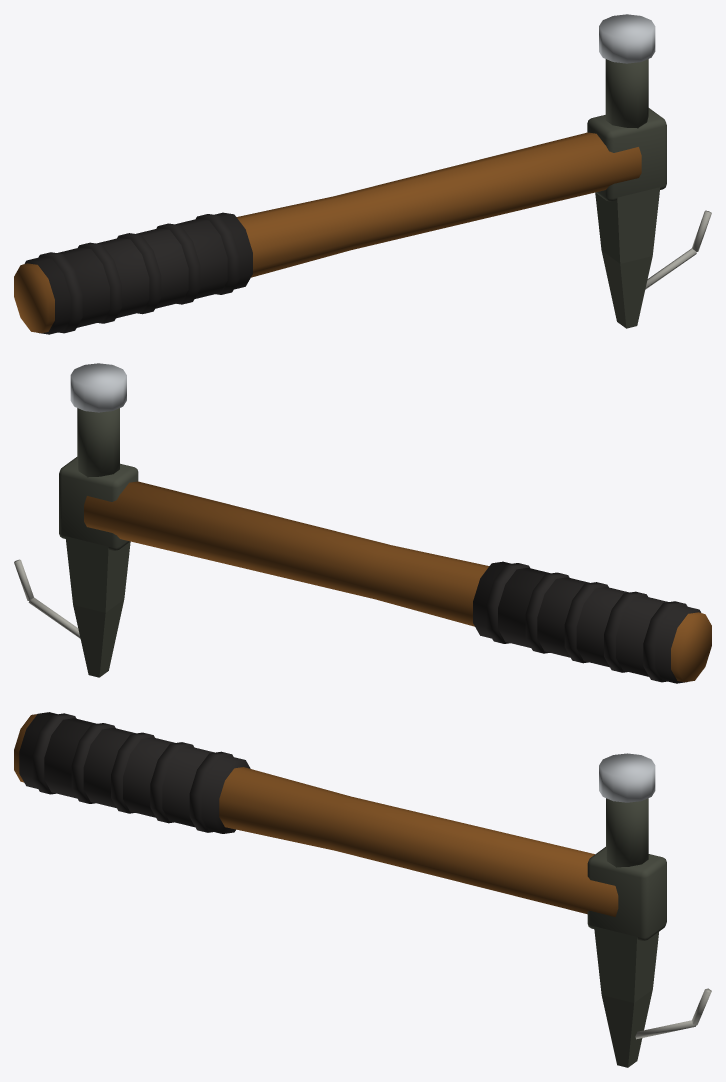
File: item_framing_hammer.glb
The picture shows the model from 3 angles, top to bottom: view 1: azimuth 30°, elevation 25°; view 2: azimuth 150°, elevation 25°; view 3: azimuth 330°, elevation 25°; orthographic projection.
Parts seen in each view (by area): view 1: handle, grip, claw, eye, neck, face, grip_turn_3, grip_turn_0, grip_turn_2, grip_turn_4, grip_turn_1; view 2: handle, grip, claw, eye, neck, face, grip_turn_0, grip_turn_3, grip_turn_2, grip_turn_1, grip_turn_4; view 3: handle, grip, claw, eye, neck, face, grip_turn_3, grip_turn_1, grip_turn_0, grip_turn_4, grip_turn_2.
Part boxes in pixels (x1=…): handle: x1=14, y1=132, x2=641, y2=333; grip: x1=24, y1=212, x2=252, y2=334; claw: x1=595, y1=187, x2=660, y2=328; eye: x1=587, y1=108, x2=666, y2=201; neck: x1=605, y1=59, x2=648, y2=128; face: x1=599, y1=14, x2=655, y2=63; grip_turn_3: x1=156, y1=223, x2=200, y2=304; grip_turn_0: x1=38, y1=252, x2=82, y2=333; grip_turn_2: x1=117, y1=233, x2=161, y2=314; grip_turn_4: x1=196, y1=214, x2=239, y2=294; grip_turn_1: x1=78, y1=242, x2=121, y2=323; handle: x1=84, y1=481, x2=711, y2=682; grip: x1=473, y1=561, x2=701, y2=683; claw: x1=65, y1=536, x2=130, y2=677; eye: x1=59, y1=457, x2=138, y2=550; neck: x1=77, y1=408, x2=119, y2=477; face: x1=70, y1=363, x2=126, y2=412; grip_turn_0: x1=643, y1=601, x2=687, y2=682; grip_turn_3: x1=525, y1=572, x2=569, y2=653; grip_turn_2: x1=564, y1=582, x2=608, y2=663; grip_turn_1: x1=604, y1=591, x2=647, y2=672; grip_turn_4: x1=486, y1=563, x2=529, y2=643; handle: x1=14, y1=714, x2=618, y2=916; grip: x1=19, y1=712, x2=250, y2=833; claw: x1=594, y1=926, x2=658, y2=1067; eye: x1=587, y1=847, x2=666, y2=940; neck: x1=606, y1=798, x2=648, y2=867; face: x1=599, y1=753, x2=655, y2=802; grip_turn_3: x1=150, y1=742, x2=194, y2=823; grip_turn_1: x1=71, y1=723, x2=115, y2=803; grip_turn_0: x1=32, y1=713, x2=76, y2=794; grip_turn_4: x1=189, y1=751, x2=233, y2=832; grip_turn_2: x1=111, y1=732, x2=154, y2=813.
Size of the model in its own units: 0.5022 by 0.21 by 0.0504.
